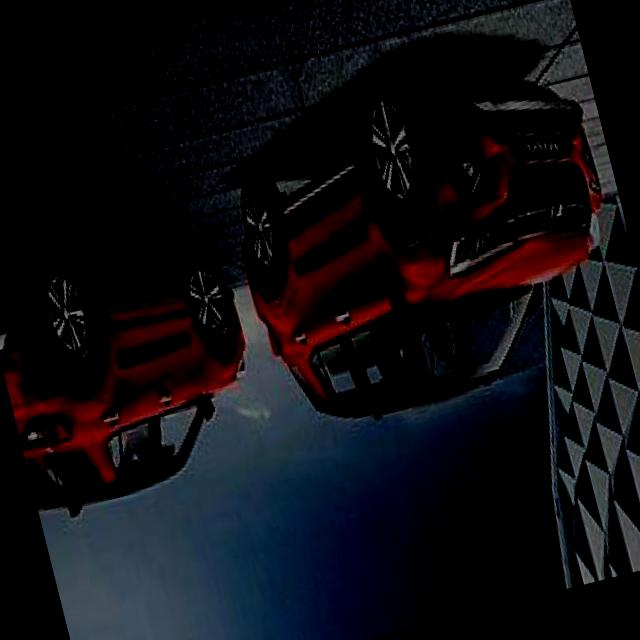PeroduaAtiva: (210, 46, 640, 444)
